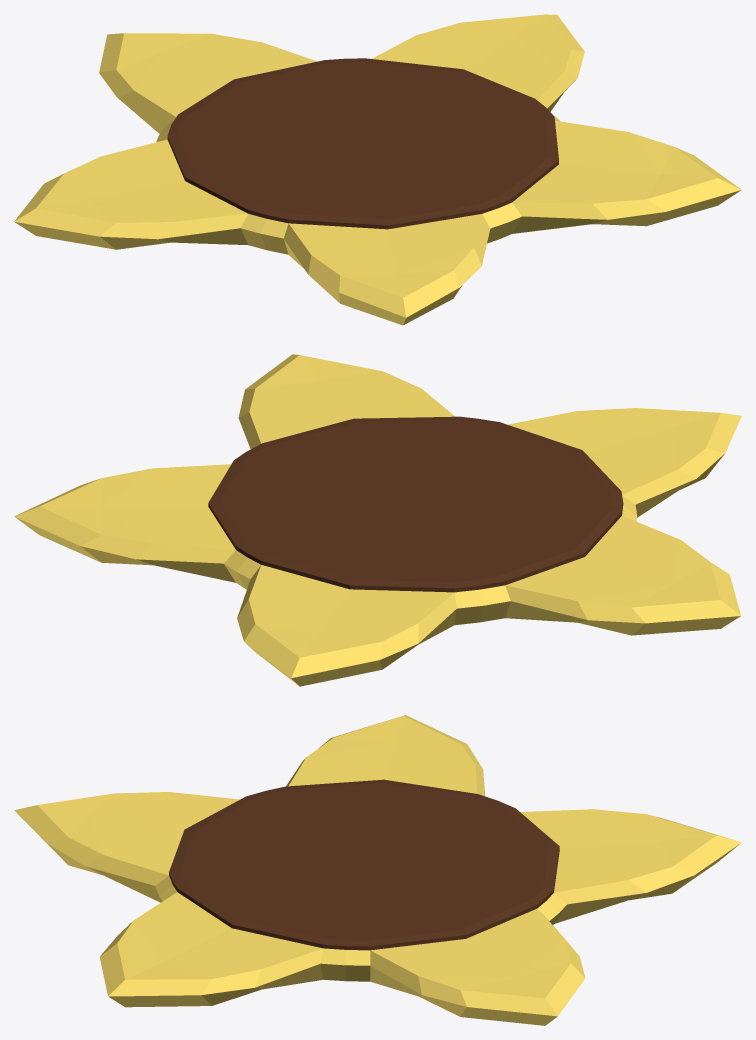
Rendered from Flower.fbx.
3 renders of one model, top to bottom at view 1: azimuth 30°, elevation 25°; view 2: azimuth 150°, elevation 25°; view 3: azimuth 270°, elevation 25°, orthographic. The views are drawn at different scales.
Visible parts, largest first — view 1: Circle; view 2: Circle; view 3: Circle.
Boxes of the visible parts, x1,y1,x2,y2 form: Circle: [14, 14, 741, 325]; Circle: [14, 354, 741, 686]; Circle: [14, 715, 741, 1025].
Bounding box in the file's own units: 476 × 36.55 × 486.
